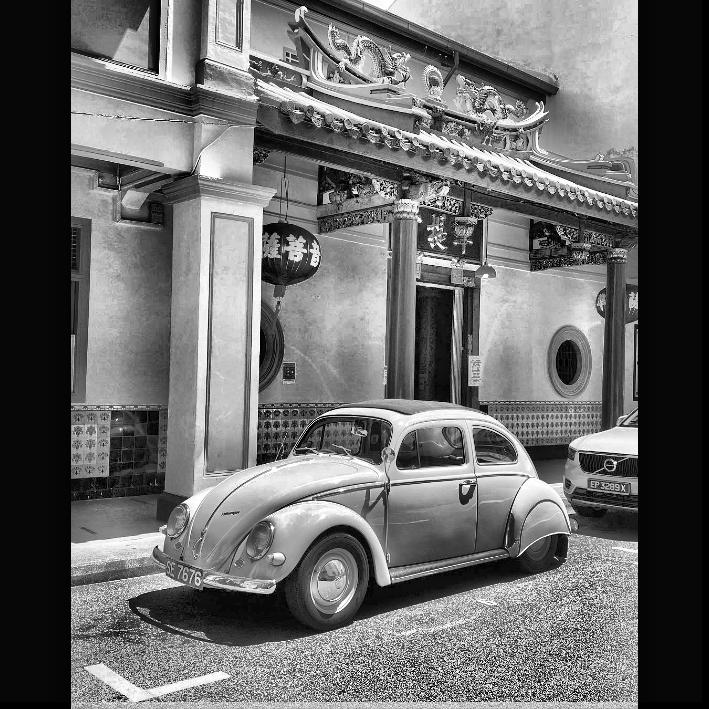License-Plates: (164, 557, 202, 589), (587, 479, 628, 494)
